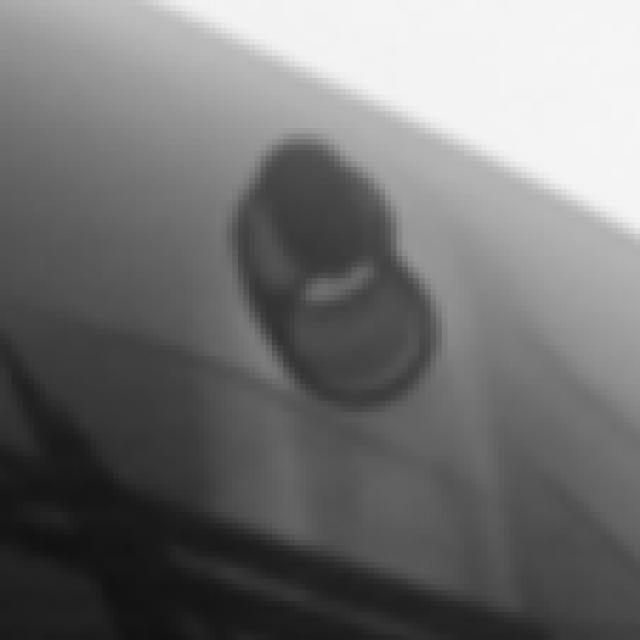SCREW: (12, 377, 152, 624)
